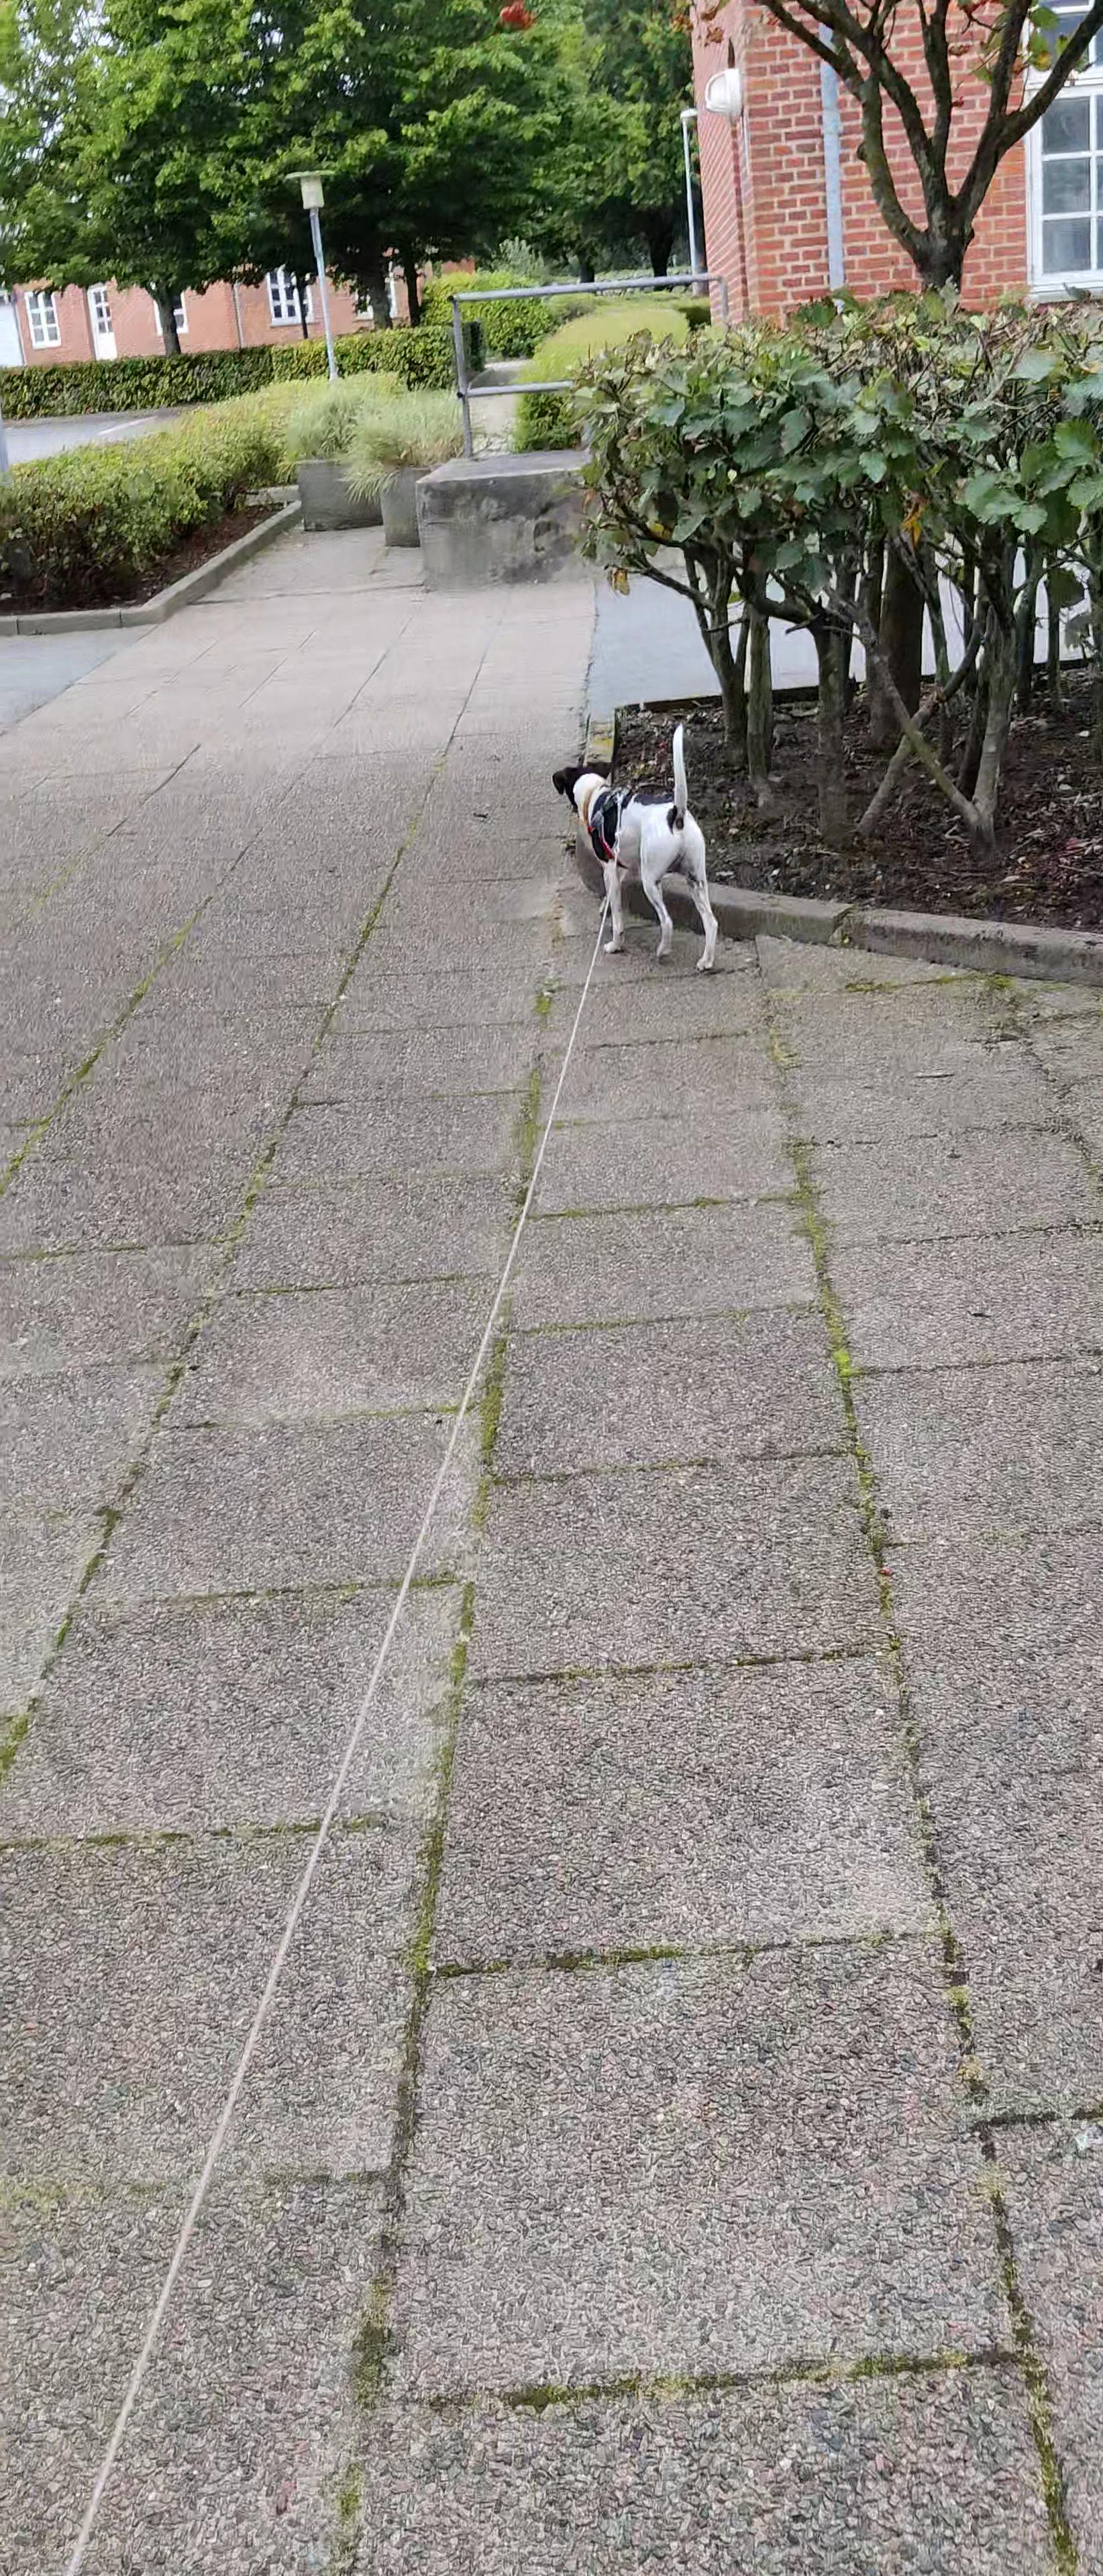Dog: (546, 716, 723, 973)
